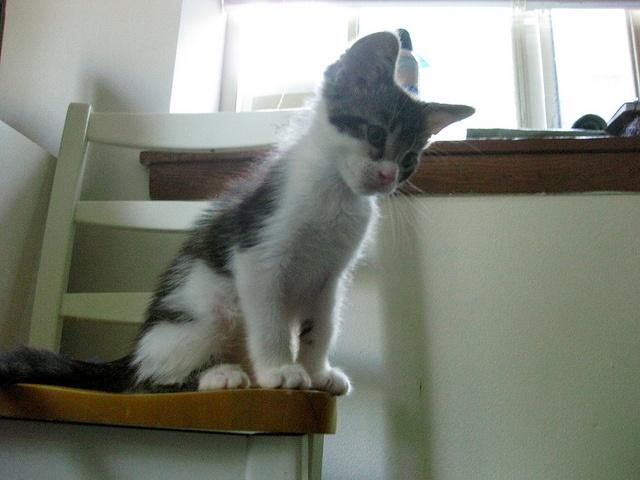Kursi: (0, 100, 337, 479)
